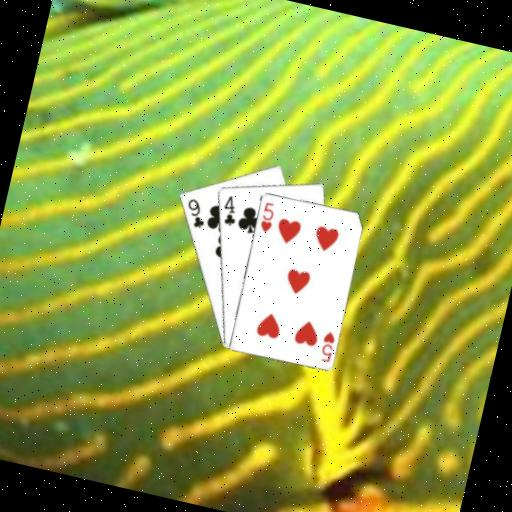4C: (216, 192, 242, 229)
5H: (315, 327, 338, 365), (255, 198, 278, 235)
9C: (179, 194, 211, 231)
